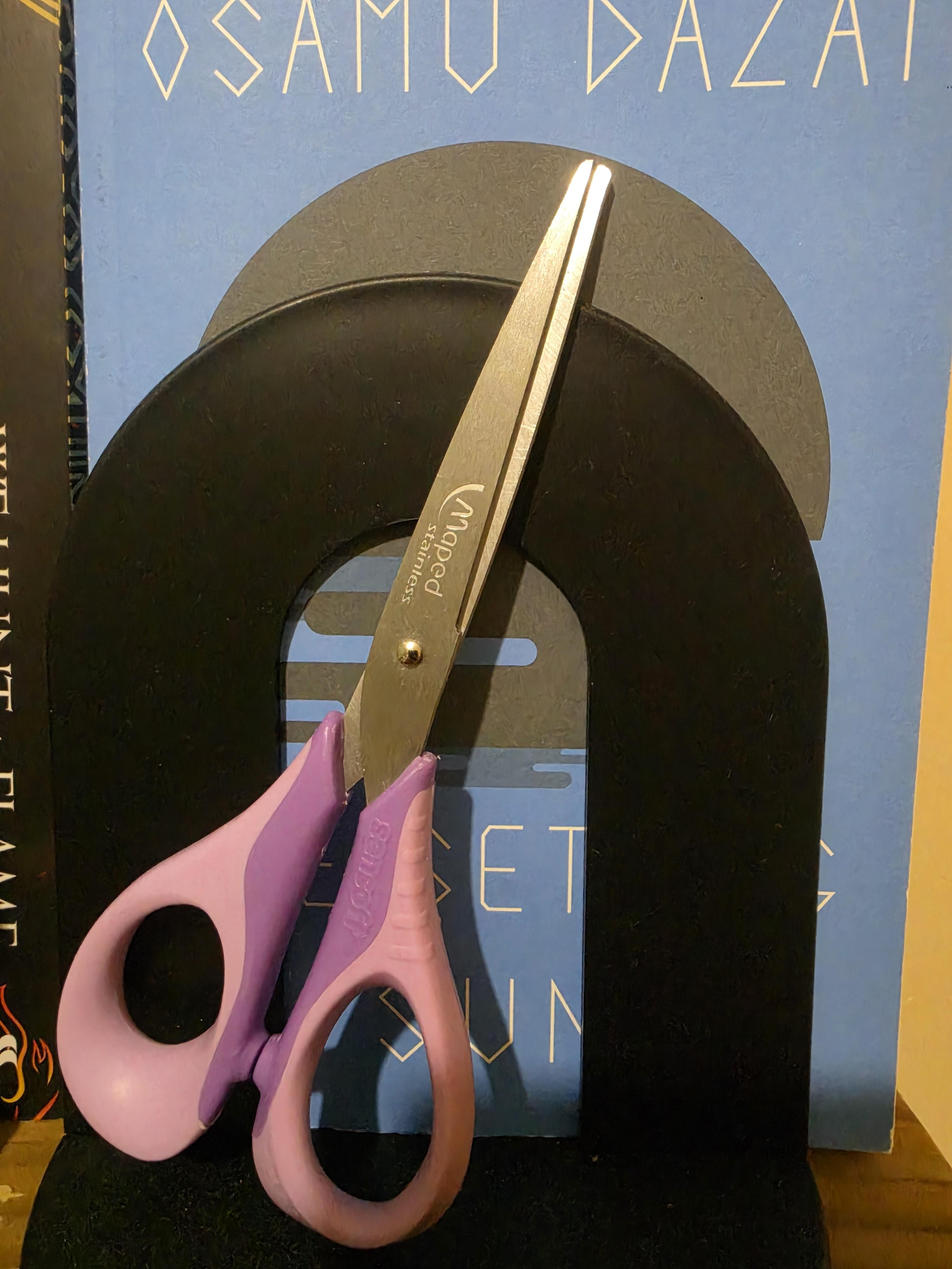scissors: (56, 159, 614, 1249)
